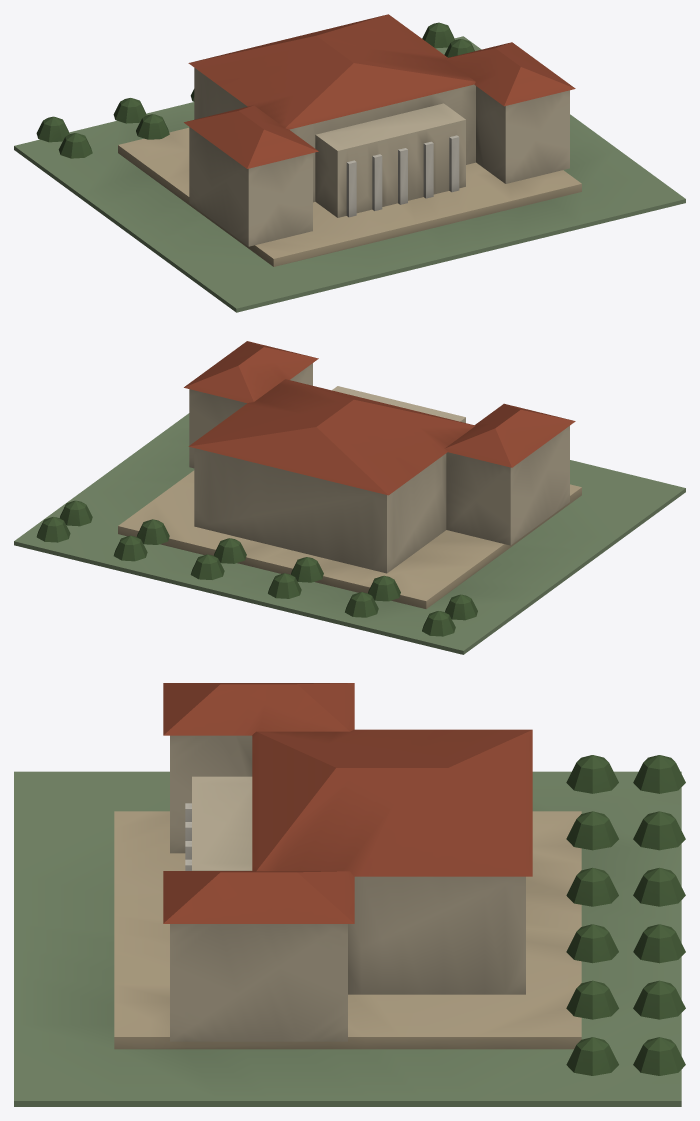
File: villa-farnesina.glb
3 views of the same model, one above another, from view 1: azimuth 30°, elevation 25°; view 2: azimuth 150°, elevation 25°; view 3: azimuth 270°, elevation 25° (orthographic). The views are drawn at different scales.
Parts seen in each view (by area): view 1: p0_garden, p1_villa, p2_roof; view 2: p0_garden, p2_roof, p1_villa; view 3: p0_garden, p2_roof, p1_villa.
Boxes of the visible parts, x1=… form: p0_garden: x1=14, y1=36, x2=685, y2=312; p1_villa: x1=189, y1=68, x2=569, y2=246; p2_roof: x1=36, y1=14, x2=575, y2=168; p0_garden: x1=14, y1=413, x2=685, y2=654; p2_roof: x1=36, y1=341, x2=575, y2=636; p1_villa: x1=189, y1=363, x2=569, y2=573; p0_garden: x1=14, y1=771, x2=681, y2=1106; p2_roof: x1=163, y1=683, x2=685, y2=1075; p1_villa: x1=170, y1=735, x2=525, y2=1041.
Bounding box in the file's own units: 70 × 17.3 × 60.38.
